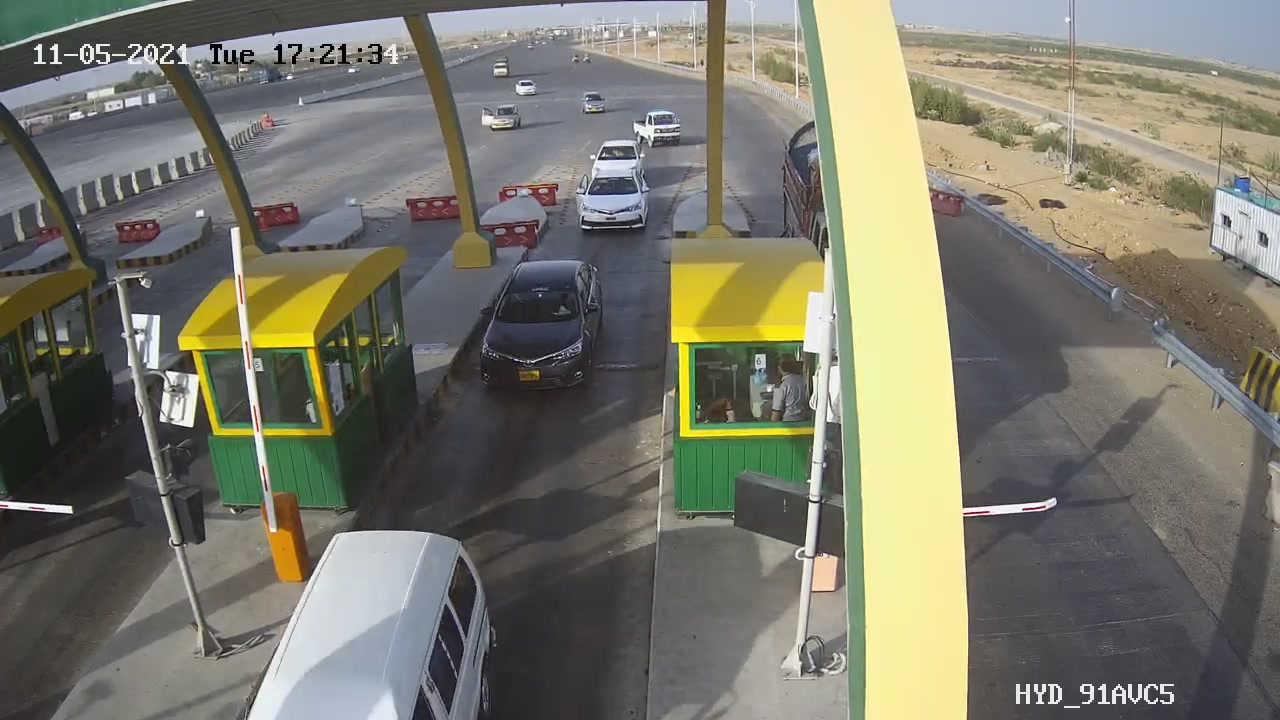F1: (463, 242, 617, 424)
